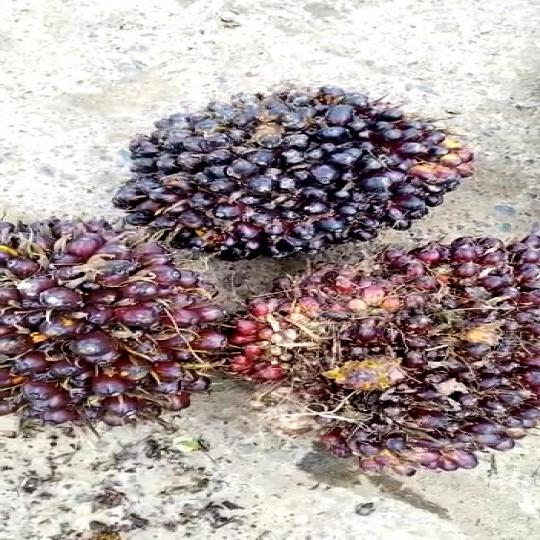kurang masak: (240, 232, 540, 475), (105, 80, 479, 252), (0, 208, 234, 435)
